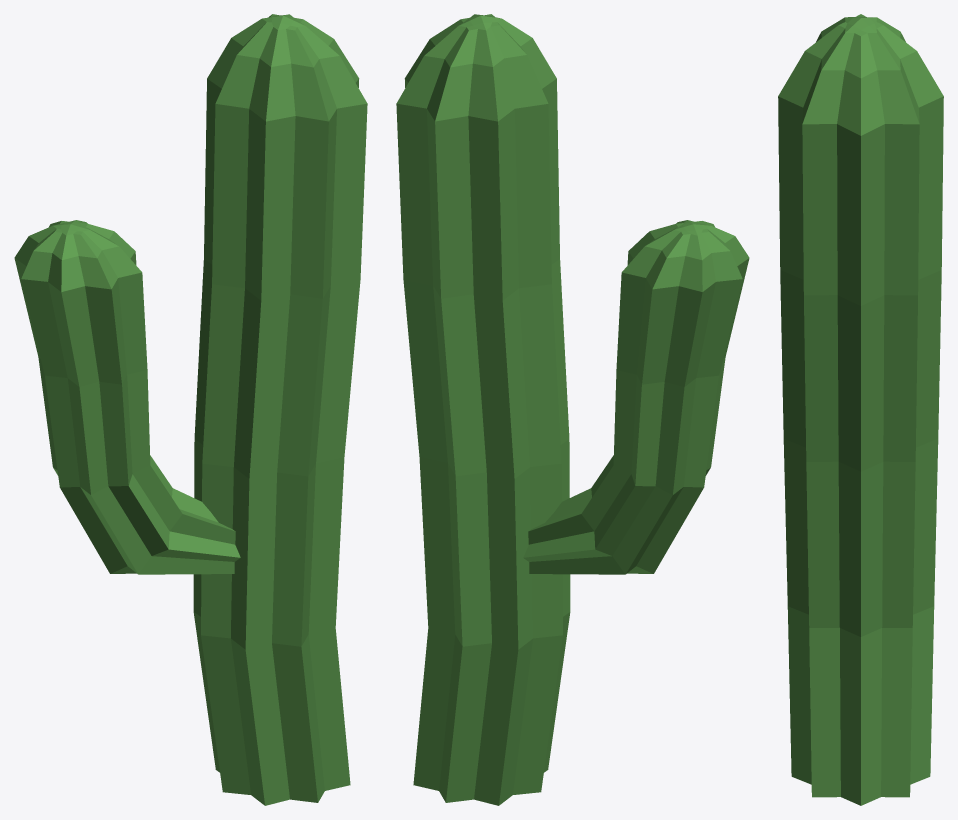
File: Desert_Cactus01.fbx
The picture shows the model from 3 angles, left to right: view 1: azimuth 30°, elevation 25°; view 2: azimuth 150°, elevation 25°; view 3: azimuth 270°, elevation 25°; orthographic projection.
Visible parts, largest first — view 1: Cactus1; view 2: Cactus1; view 3: Cactus1.
Boxes of the visible parts, bbox=[...] form: Cactus1: bbox=[14, 14, 367, 805]; Cactus1: bbox=[396, 14, 749, 805]; Cactus1: bbox=[778, 14, 943, 805].
Bounding box in the file's own units: 46.77 × 19.94 × 101.
